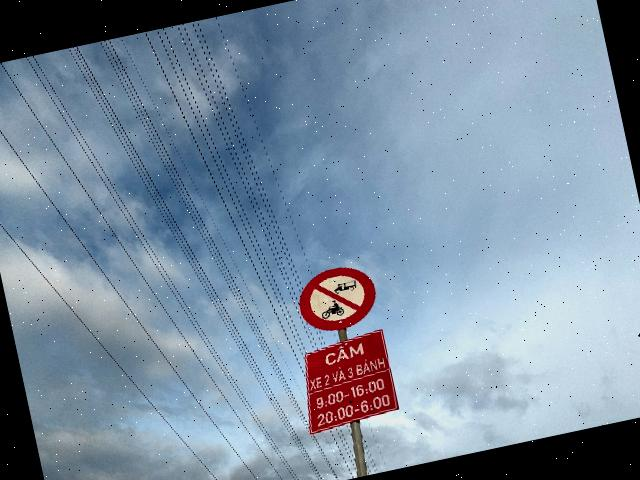cam-xe-2-banh-3-banh: (293, 260, 382, 338)
